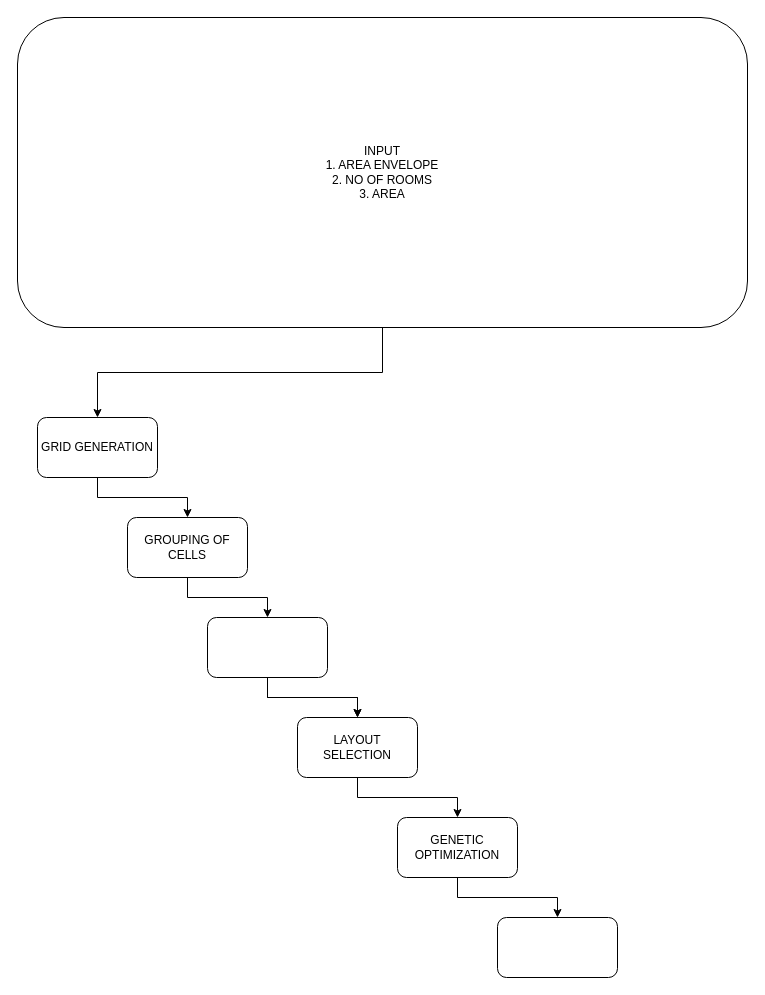
This 765x995 diagram has some shape labels left out. Each missing label, with the box of its shape:
CONSTRAINT PROGRAMMING: (206, 616, 328, 678)
FLOOR PLAN IS GENERATED!: (496, 916, 618, 978)
